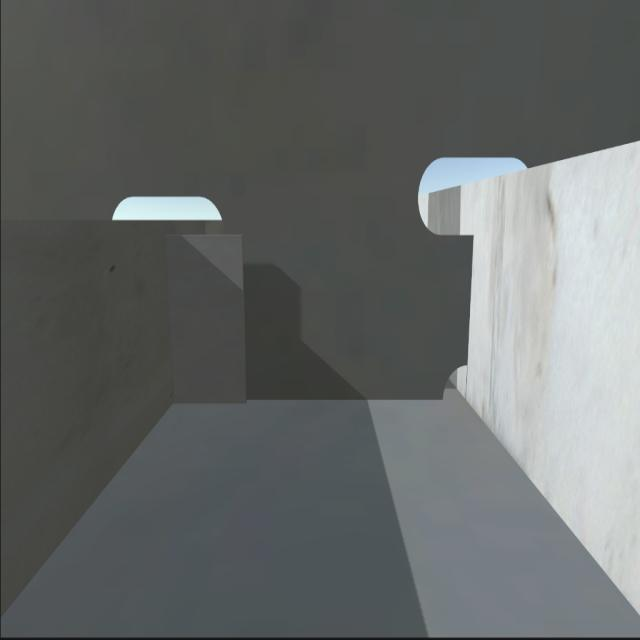fillet_hole: (436, 353, 468, 402)
fillet_yong_jeop_jang: (171, 392, 445, 409)
longi_yong_jeop_jang: (161, 233, 184, 406), (460, 231, 481, 372)
plate_CP01: (162, 232, 247, 401)
